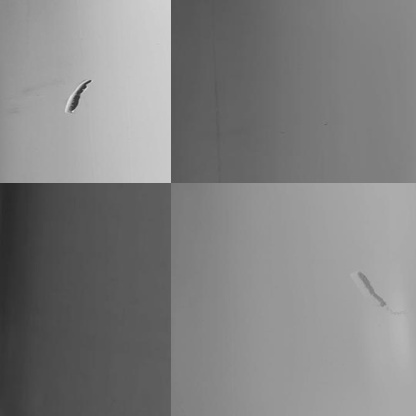kongdong: (60, 74, 96, 115)
sunshang: (352, 267, 388, 313)
